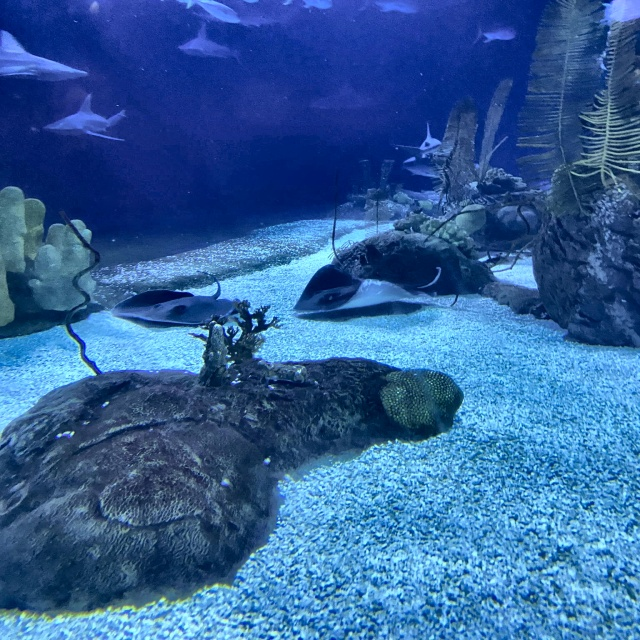fish: (190, 0, 246, 24), (365, 0, 422, 19), (475, 26, 526, 42), (288, 0, 334, 14)
shark: (0, 41, 91, 82), (35, 111, 138, 138), (170, 30, 248, 62), (393, 139, 457, 174)
stingray: (282, 266, 441, 322), (111, 278, 236, 325)
